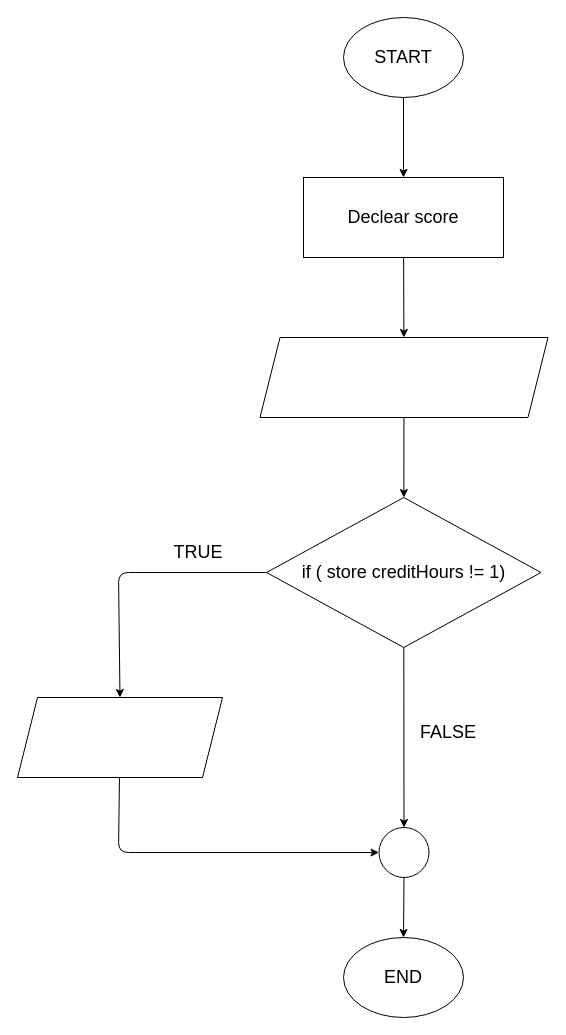
Image size: 566x1035. Some labels were removed from this diagram. The shapes that lost their labels are listed below. From the top down, each one's centre as x and y in pixels, then its label:
(x=403, y=377): Enter the score (eg. 85 or 90):
(x=119, y=737): Return "INVALID"
